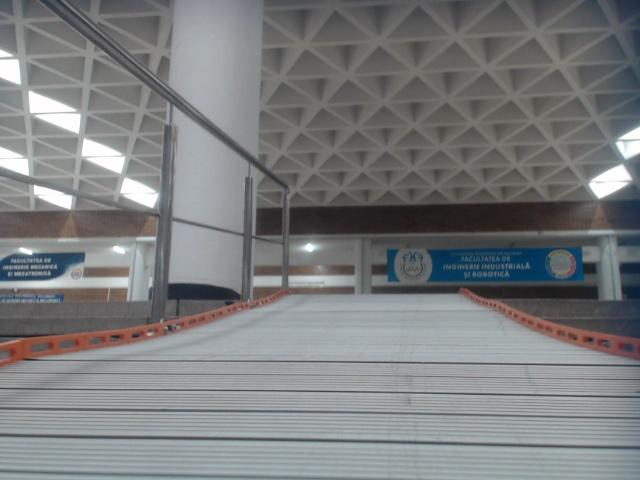rampUp: (0, 285, 639, 479)
ramps-railing: (25, 0, 293, 321), (0, 164, 287, 245)
